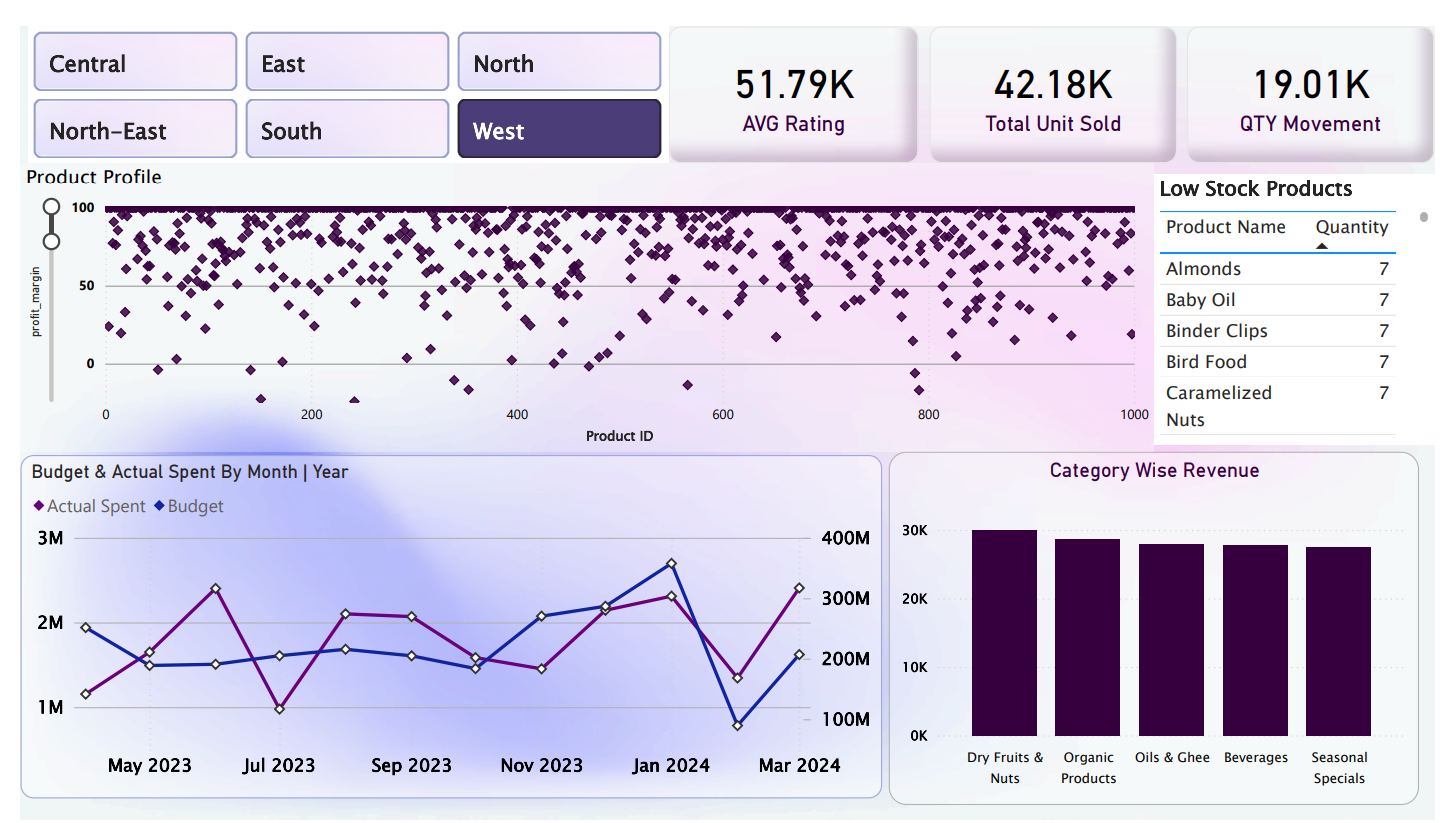

This screenshot's page, from the dashboard's own definition file:
{"tool":"powerbi","page":{"name":"Product,Inventory & Finance Insights","canvas":[1280,720],"ordinal":1},"visuals":[{"type":"card","fields":{"Values":["Sum(P-avg_rating.Avg_rating)"]},"box":[587.1,0,225.7,124.3],"z":0},{"type":"card","fields":{"Values":["Sum(P-sales_data.quantity)"]},"box":[822.9,0,224.3,124.3],"z":1000},{"type":"card","fields":{"Values":["Sum(P-inventory_turnover.total_movement_QTY)"]},"box":[1055.7,0,224.3,124.3],"z":2000},{"type":"lineStackedColumnComboChart","title":"Category Wise Revenue","fields":{"Category":["P-category_wise_prd.category_name"],"Y":["Sum(P-category_wise_prd.price)"]},"box":[785.7,385.7,480,320],"z":3000},{"type":"tableEx","title":"Low  Stock Products","fields":{"Values":["P-sales_data.product_name","Sum(P-sales_data.quantity)"]},"box":[1025.7,134.3,254.3,245.7],"z":4000},{"type":"lineChart","title":"Budget & Actual Spent By Month | Year","fields":{"Y":["Sum(P-budget_vs_actual.actual_spent)"],"Y2":["Sum(P-budget_vs_actual.budgeted_amount)"],"Category":["P-budget_vs_actual.month.Variation.Date Hierarchy.Year","P-budget_vs_actual.month.Variation.Date Hierarchy.Month"]},"box":[0,388.6,780,311.4],"z":5000},{"type":"scatterChart","title":"Product Profile","fields":{"X":["P-product_profile.product_id"],"Y":["P-product_profile.profit_margin"]},"box":[0,124.3,1025.7,261.4],"z":6000},{"type":"advancedSlicerVisual","fields":{"Values":["P-regions.region_name"]},"box":[7.1,0,580,124.3],"z":7000}]}

Visuals, with their boxes in screenshot pixels (x1, y1, x2, y2), scaled from the page's 1280x720 canvas onto the 1455x823 screenshot:
card - Sum(P-avg_rating.Avg_rating): bbox=[667, 0, 924, 142]
card - Sum(P-sales_data.quantity): bbox=[935, 0, 1190, 142]
card - Sum(P-inventory_turnover.total_movement_QTY): bbox=[1200, 0, 1454, 142]
"Category Wise Revenue" lineStackedColumnComboChart: bbox=[893, 441, 1439, 807]
"Low  Stock Products" tableEx: bbox=[1166, 154, 1454, 434]
"Budget & Actual Spent By Month | Year" lineChart: bbox=[0, 444, 887, 800]
"Product Profile" scatterChart: bbox=[0, 142, 1166, 441]
advancedSlicerVisual - P-regions.region_name: bbox=[8, 0, 667, 142]
